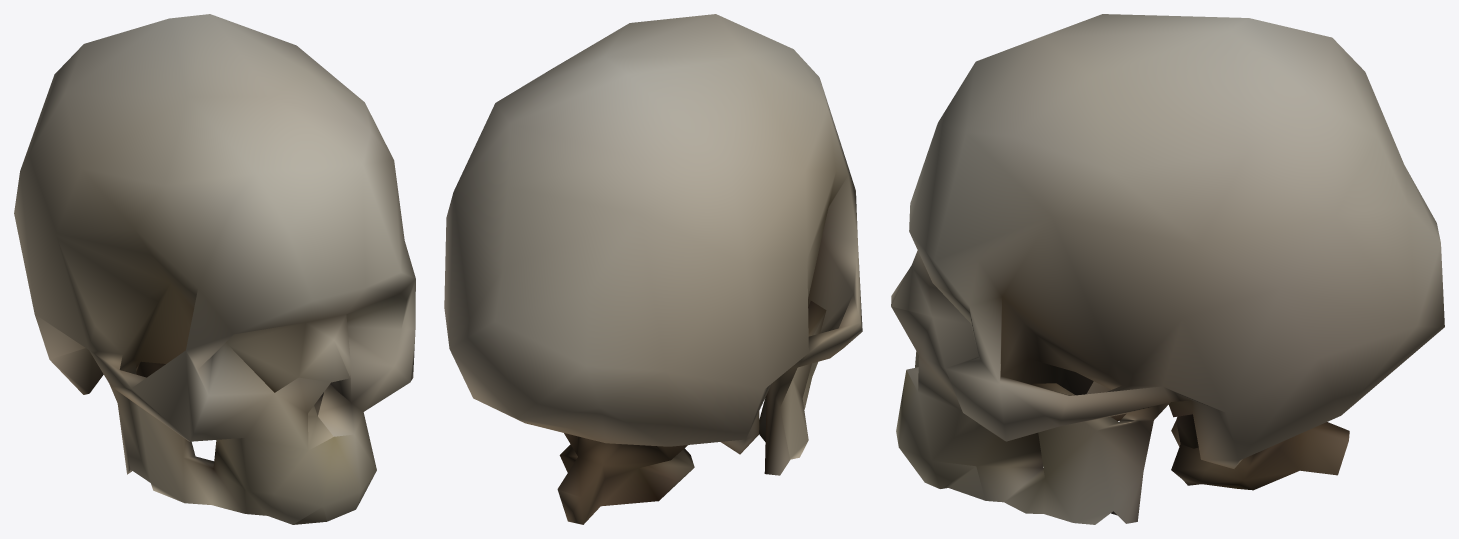
The model's file is skull.glb.
3 views of the same model, side by side, from view 1: azimuth 30°, elevation 25°; view 2: azimuth 150°, elevation 25°; view 3: azimuth 270°, elevation 25° (orthographic). The views are drawn at different scales.
Bounding box in the file's own units: 0.1753 × 0.2209 × 0.2457.
